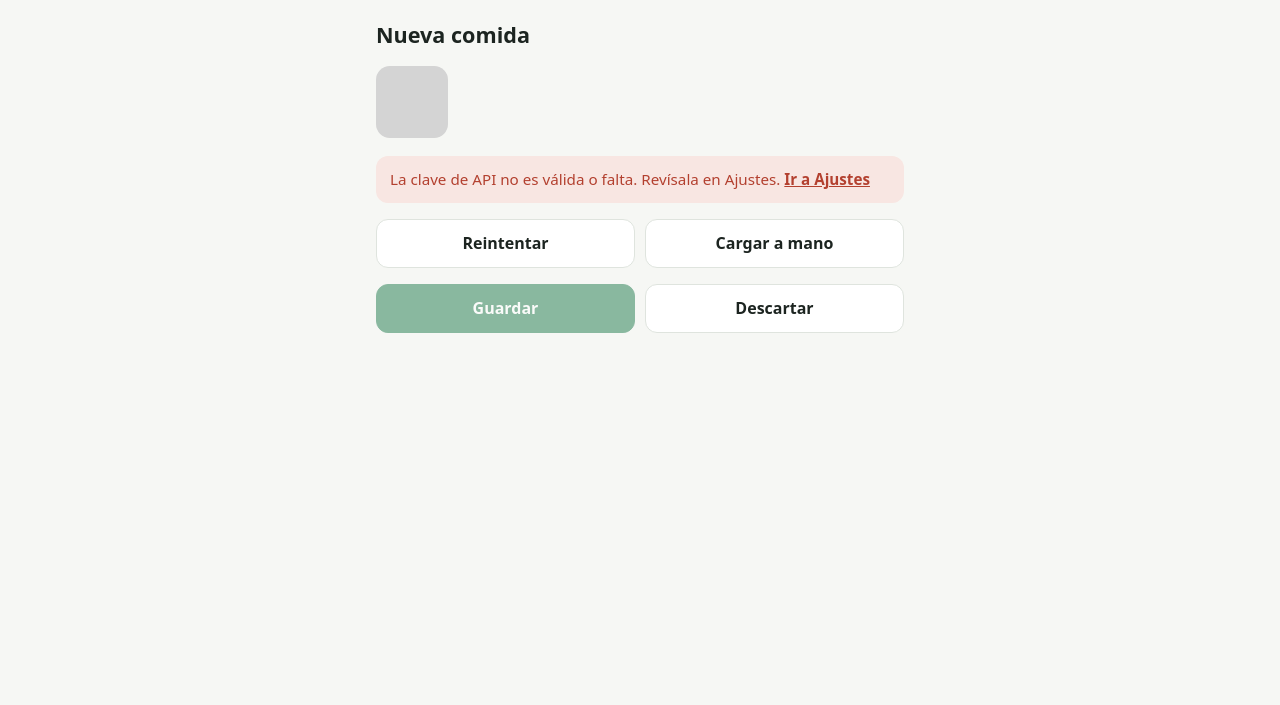
Test: tras corregir la clave se vuelve a la foto y se analiza de nuevo
Click the link "Ir a Ajustes" at (827, 180), box [784,170,870,190]
(page scrolled)
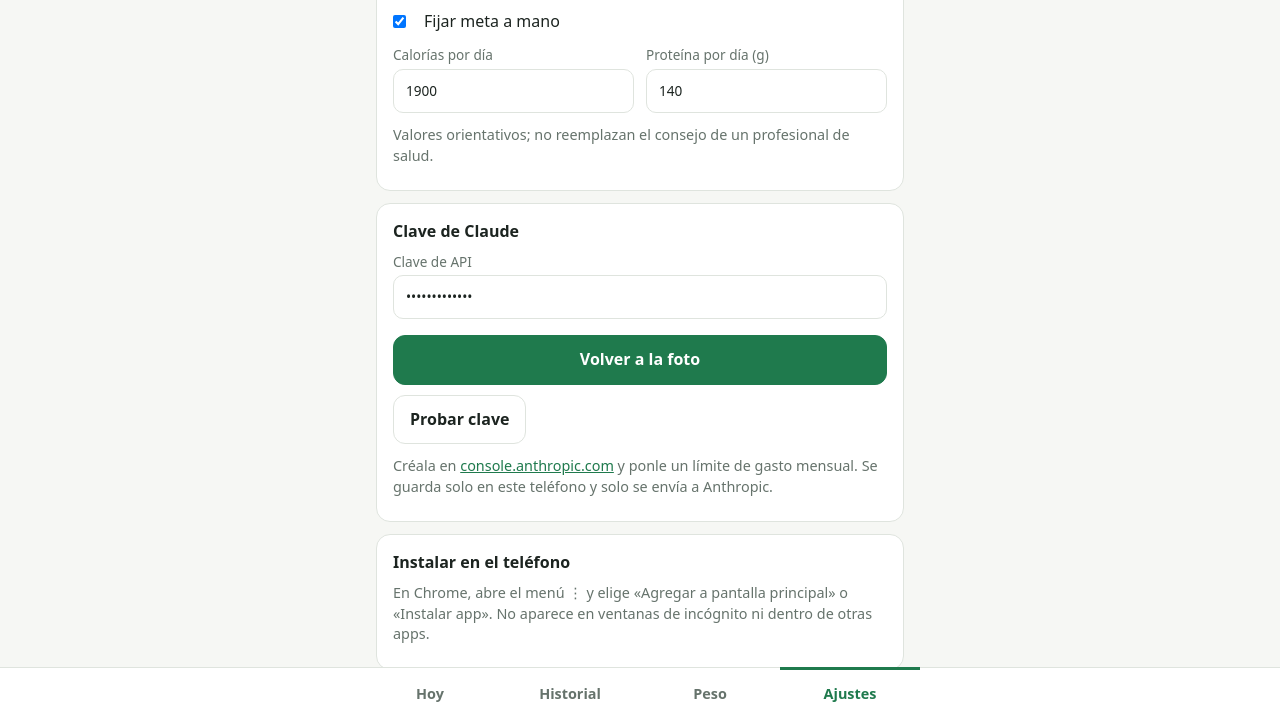
Click the button "Volver a la foto" at (640, 360), box [393,335,887,384]
(page scrolled)
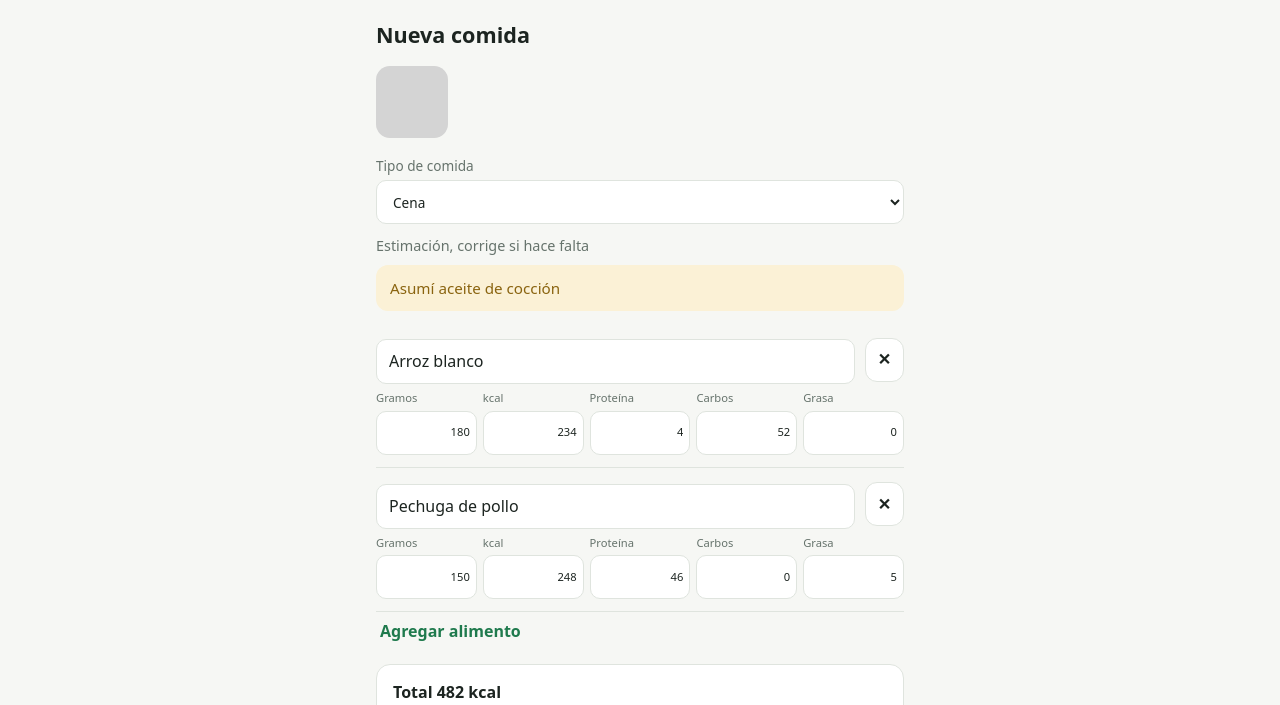
Result: the 1st field showing "Arroz blanco" is shown at [376,339,855,384]
